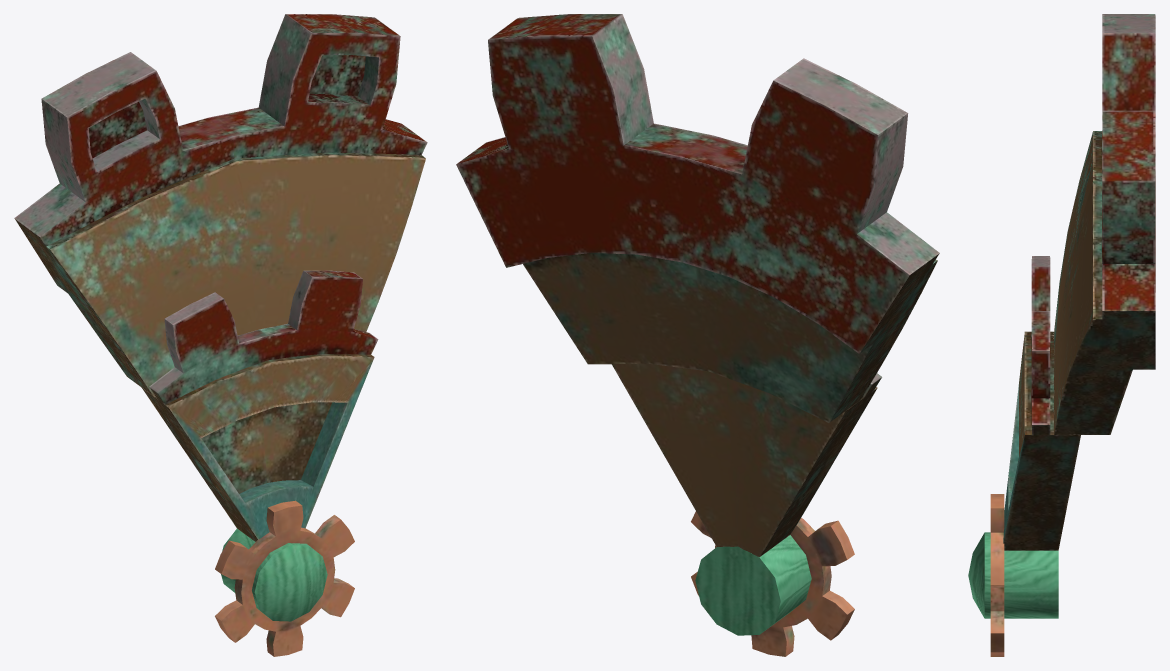
File: Shield_LizardCritter_Mesh.fbx
3 views of the same model, side by side, from view 1: azimuth 30°, elevation 25°; view 2: azimuth 150°, elevation 25°; view 3: azimuth 270°, elevation 25° (orthographic). The views are drawn at different scales.
Visible parts, largest first — view 1: Shield.Core; view 2: Shield.Core; view 3: Shield.Core.
Boxes of the visible parts, x1=… form: Shield.Core: x1=14, y1=14, x2=427, y2=656; Shield.Core: x1=456, y1=14, x2=939, y2=656; Shield.Core: x1=968, y1=14, x2=1155, y2=656.
Bounding box in the file's own units: 250 × 347 × 102.
Materials: 1 (1 with a texture image).
